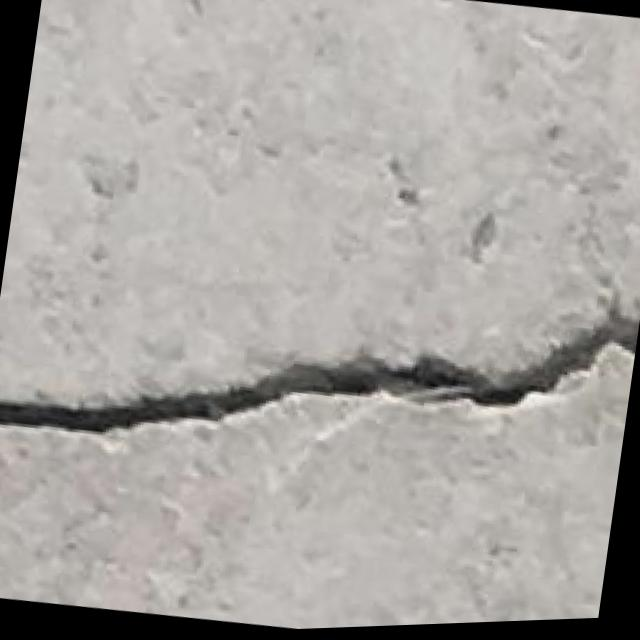Crack: (0, 219, 639, 547)
